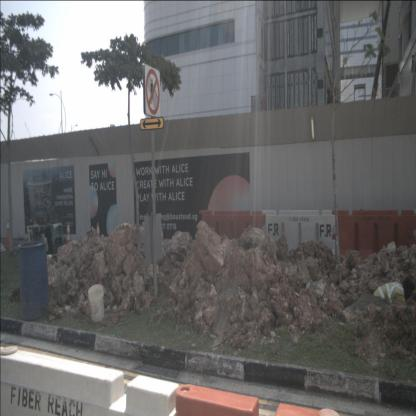barrier: (333, 208, 415, 273), (262, 210, 338, 272), (198, 211, 266, 264)
cone: (64, 221, 75, 260), (94, 222, 104, 259), (3, 219, 13, 250)
